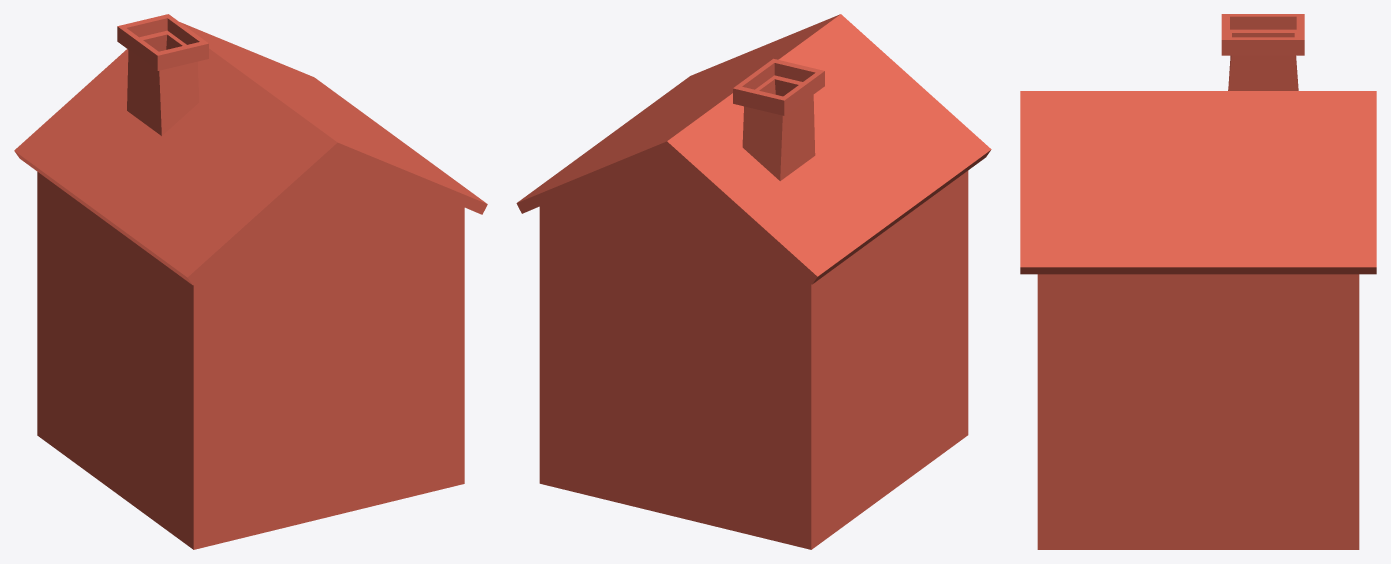
File: House_NoText.fbx
3 renders of one model, left to right at view 1: azimuth 30°, elevation 25°; view 2: azimuth 150°, elevation 25°; view 3: azimuth 270°, elevation 25°, orthographic. The views are drawn at different scales.
Parts seen in each view (by area): view 1: Cube.006; view 2: Cube.006; view 3: Cube.006.
Part boxes in pixels (left/top/right/bottom): Cube.006: left=14, top=14, right=487, bottom=549; Cube.006: left=516, top=14, right=991, bottom=549; Cube.006: left=1020, top=14, right=1376, bottom=549.
Size of the model in its own units: 157 by 208 by 157.
